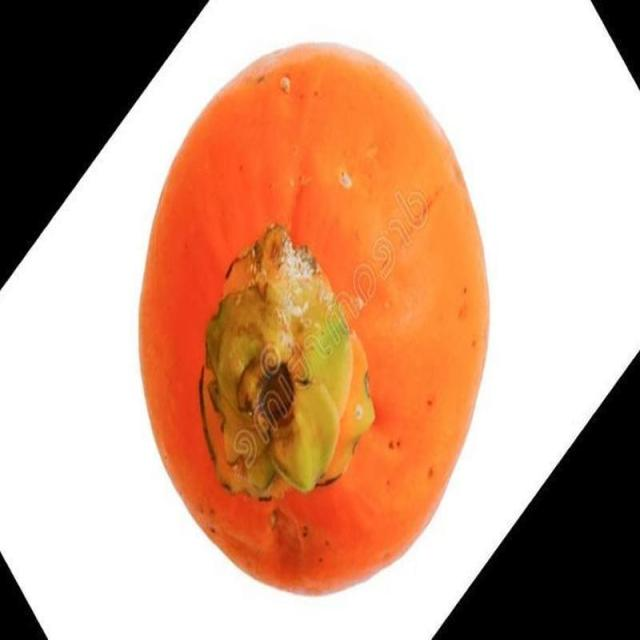good: (134, 42, 495, 602)
